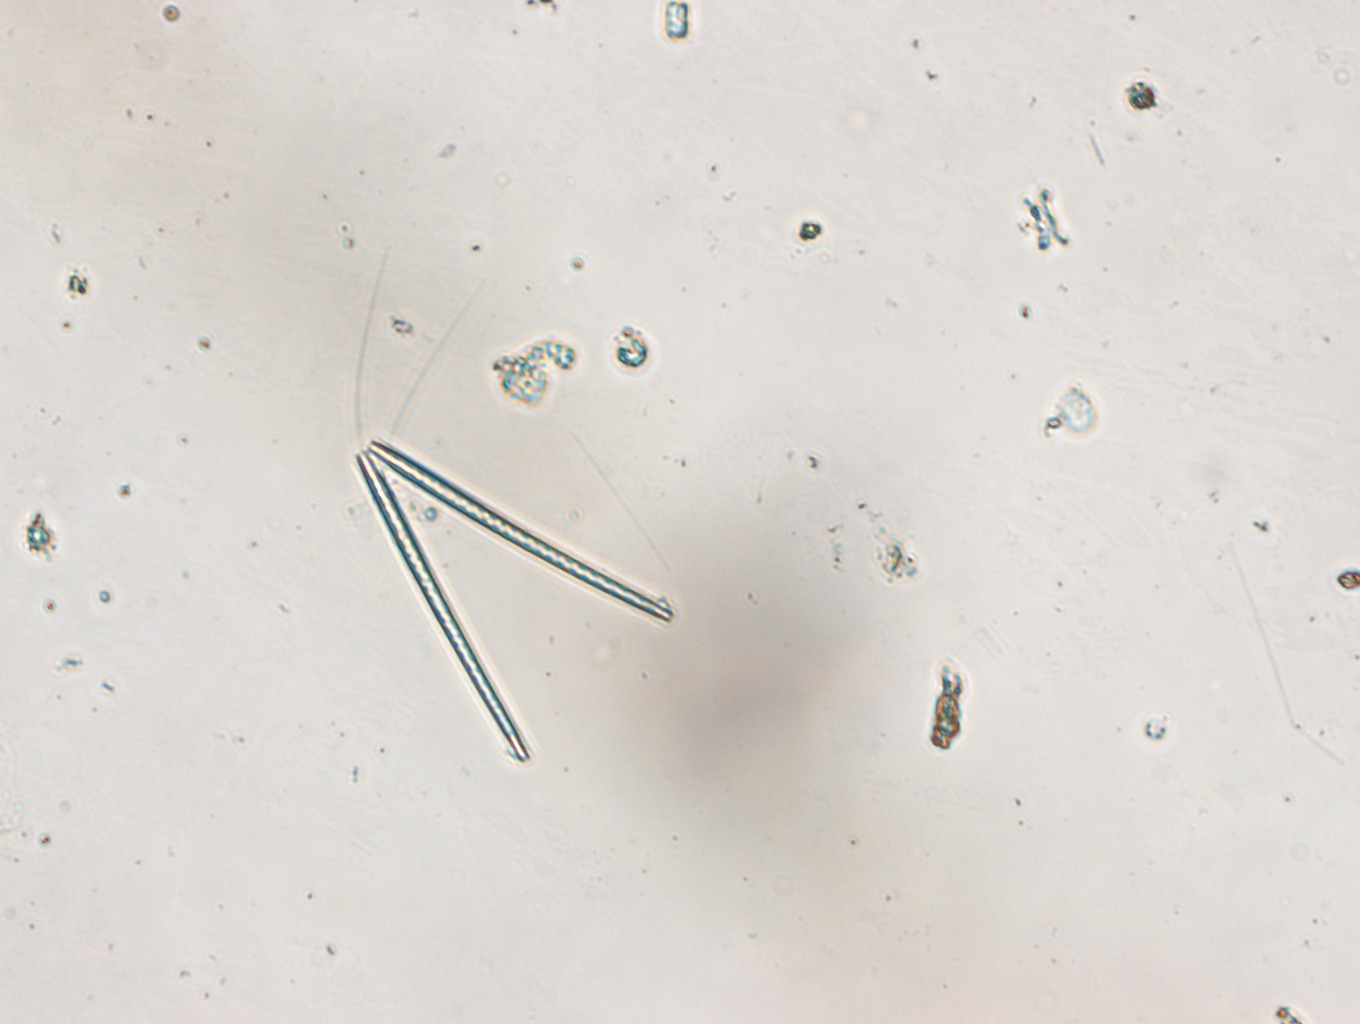thalassionema nitzschioides: (346, 429, 682, 772)
